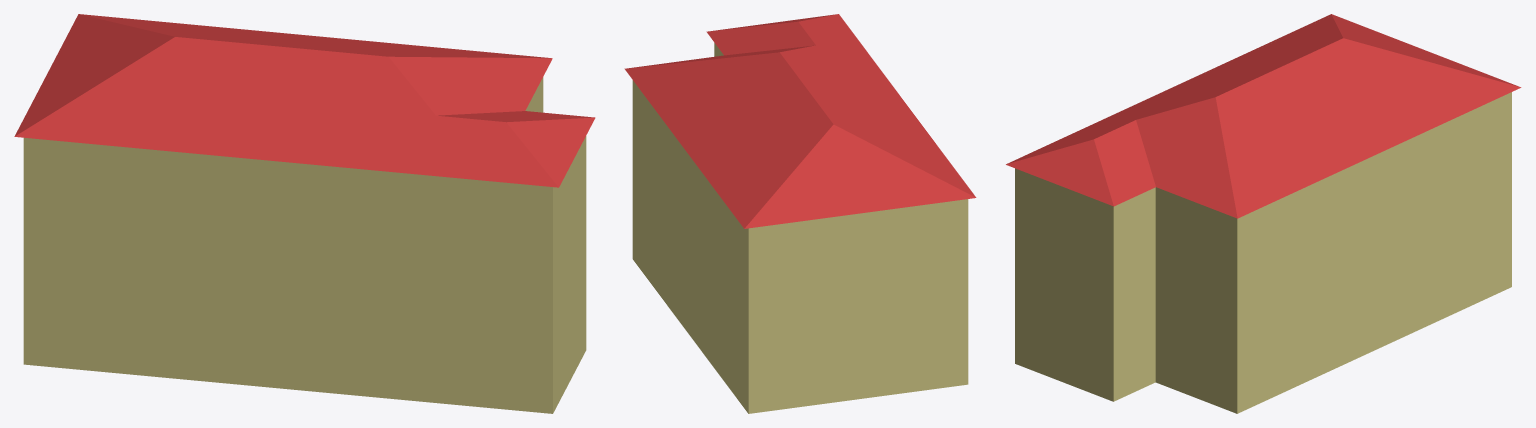
The picture shows the model from 3 angles, left to right: view 1: azimuth 30°, elevation 25°; view 2: azimuth 150°, elevation 25°; view 3: azimuth 270°, elevation 25°; orthographic projection. The views are drawn at different scales.
Size of the model in its own units: 17.65 by 18.81 by 9.9.
